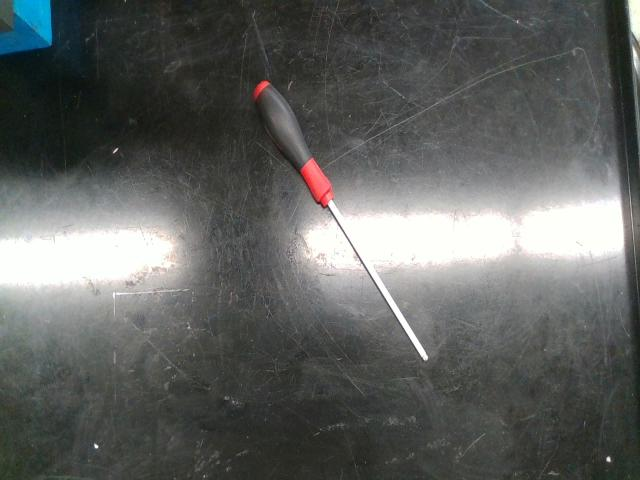Screwdriver: (254, 82, 429, 362)
